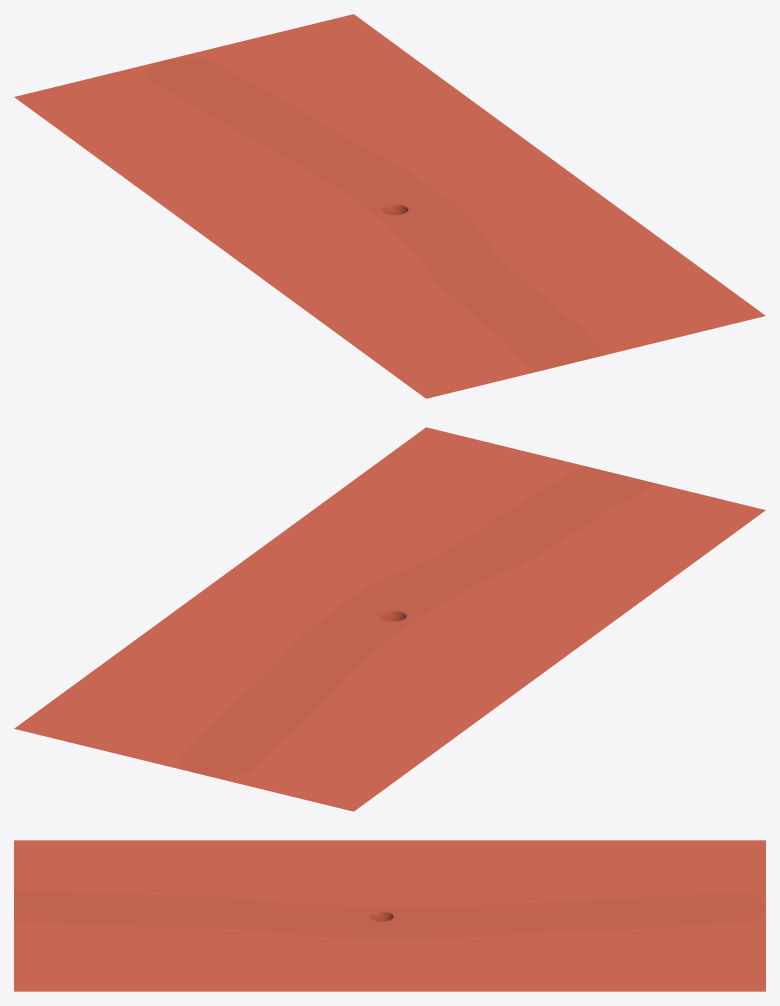
The model's file is san1.fbx.
3 renders of one model, top to bottom at view 1: azimuth 30°, elevation 25°; view 2: azimuth 150°, elevation 25°; view 3: azimuth 270°, elevation 25°, orthographic. The views are drawn at different scales.
Parts seen in each view (by area): view 1: san1; view 2: san1; view 3: san1.
Part boxes in pixels (bbox=[...]): san1: bbox=[14, 14, 765, 398]; san1: bbox=[14, 427, 765, 811]; san1: bbox=[14, 840, 765, 991].
Bounding box in the file's own units: 1230 × 23.85 × 2584.
